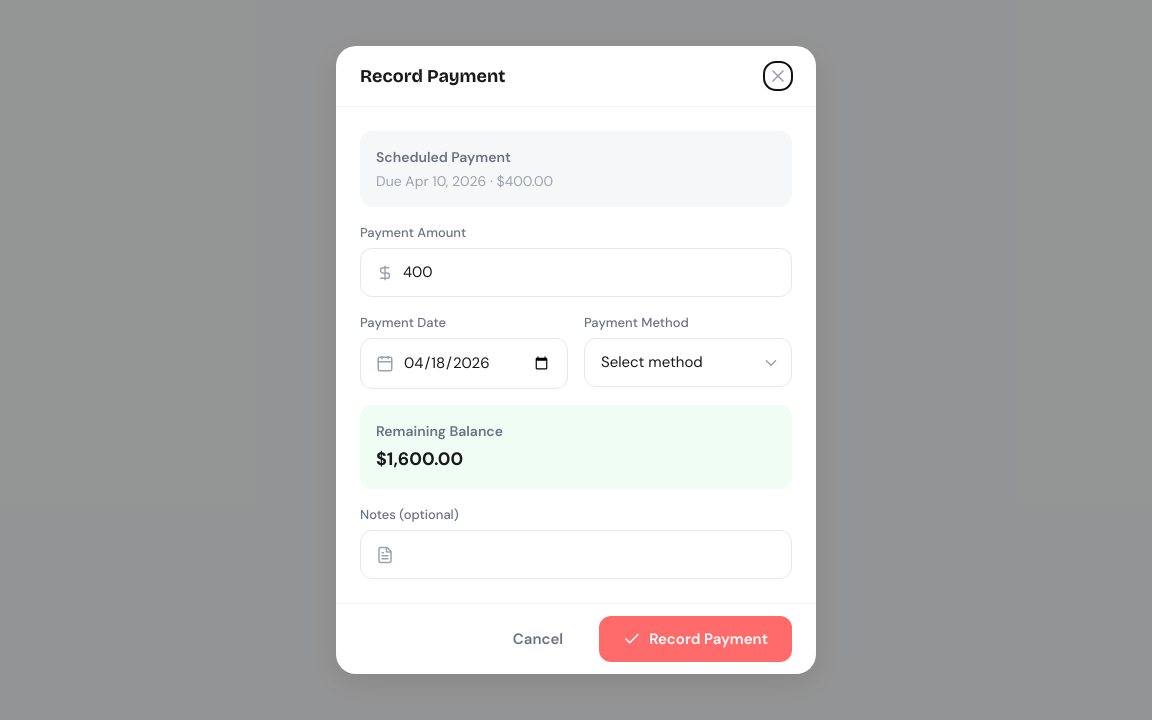
RecordPaymentDialog › shows inline amount validation before any API request
The width and height of the screenshot is (1152, 720).
Replace the text in the number field labelled "Payment Amount" with "0" at (576, 273), box [360, 248, 792, 297]
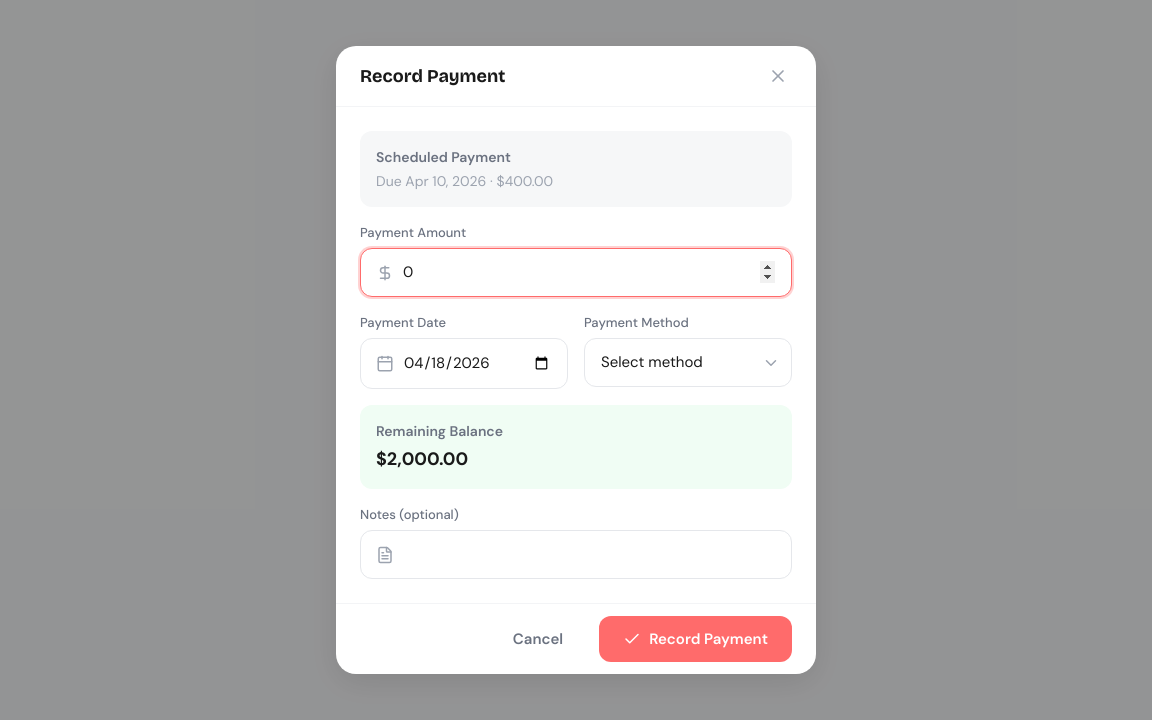
Click the button "Record Payment" at (696, 639), box [599, 616, 792, 662]
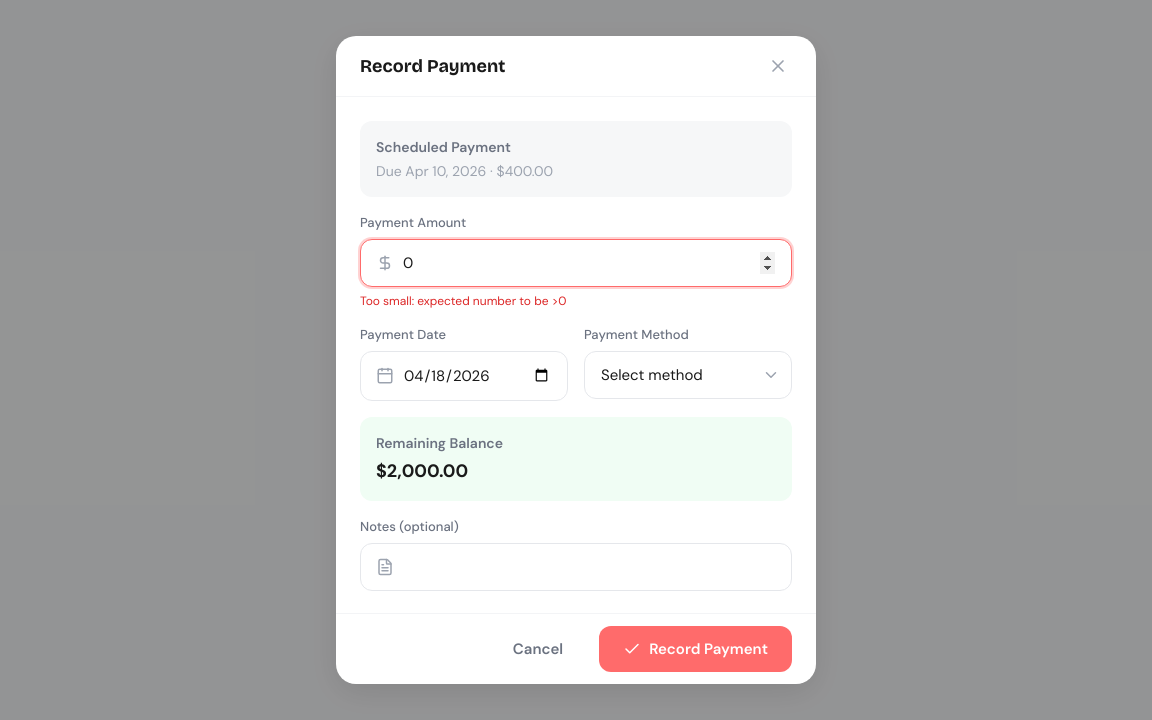
Expected: the text "Too small: expected number to be >0" is shown, [360, 293, 566, 309]
